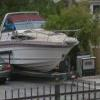Boat: (2, 5, 81, 82)
